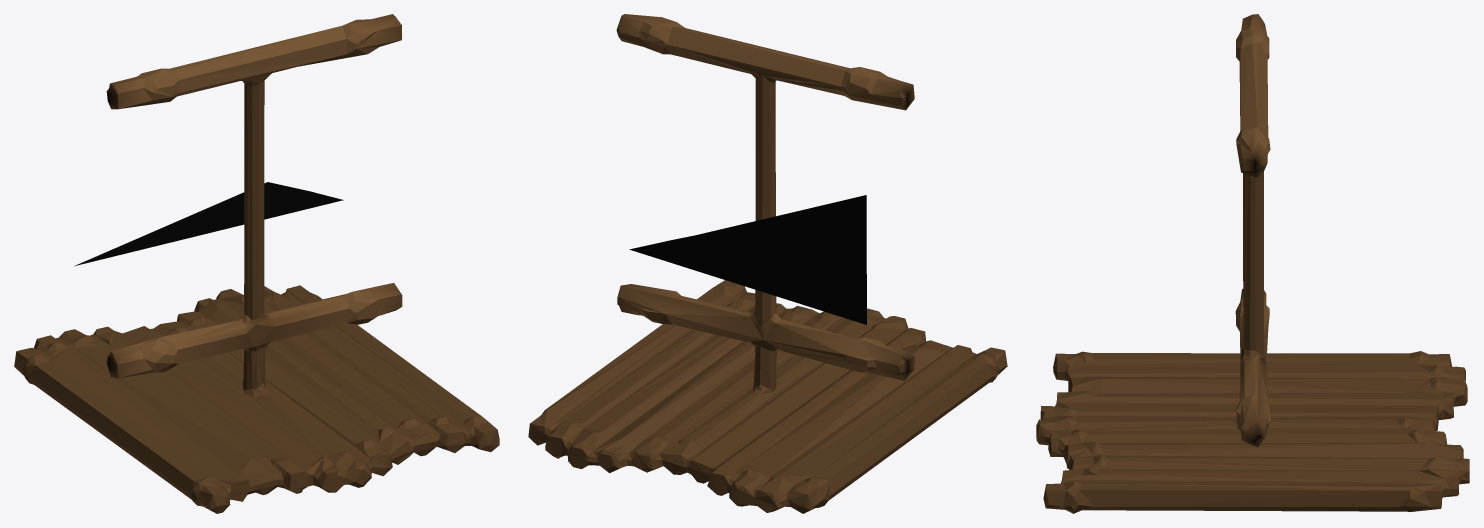
Rendered from Raft(1).glb.
The picture shows the model from 3 angles, left to right: view 1: azimuth 30°, elevation 25°; view 2: azimuth 150°, elevation 25°; view 3: azimuth 270°, elevation 25°; orthographic projection.
Parts seen in each view (by area): view 1: Root; view 2: Root; view 3: Root.
Boxes of the visible parts, box(x1,y1,x2,y2) form: Root: box(14, 14, 499, 513); Root: box(528, 14, 1007, 513); Root: box(1036, 14, 1469, 513).
Bounding box in the file's own units: 4.01 × 4.82 × 5.14.
